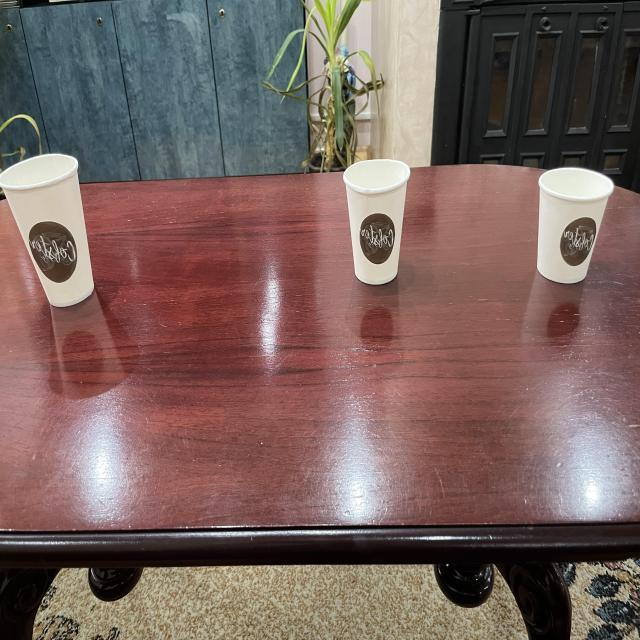big: (0, 146, 97, 310)
medium: (335, 153, 418, 288)
small: (526, 159, 618, 287)
